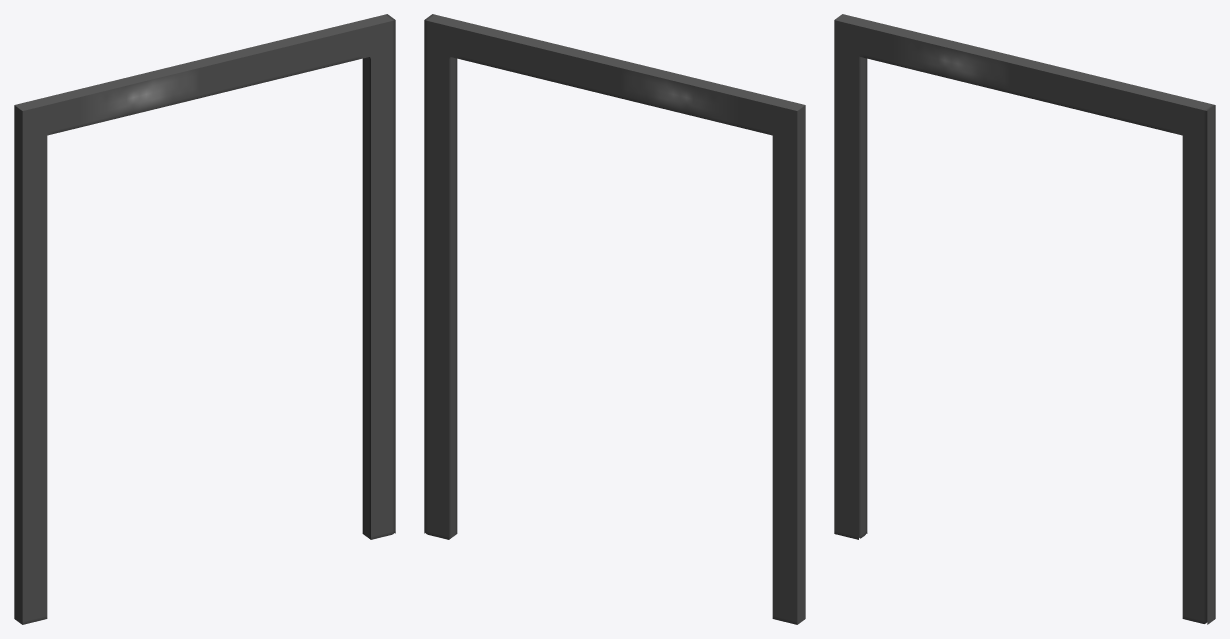
The model's file is Entrance.fbx.
3 renders of one model, left to right at view 1: azimuth 30°, elevation 25°; view 2: azimuth 150°, elevation 25°; view 3: azimuth 330°, elevation 25°, orthographic.
Parts seen in each view (by area): view 1: entrance; view 2: entrance; view 3: entrance.
Boxes of the visible parts, x1,y1,x2,y2 form: entrance: [14, 14, 395, 624]; entrance: [424, 14, 805, 624]; entrance: [834, 14, 1215, 624].
Size of the model in its own units: 461 by 606 by 17.8.
